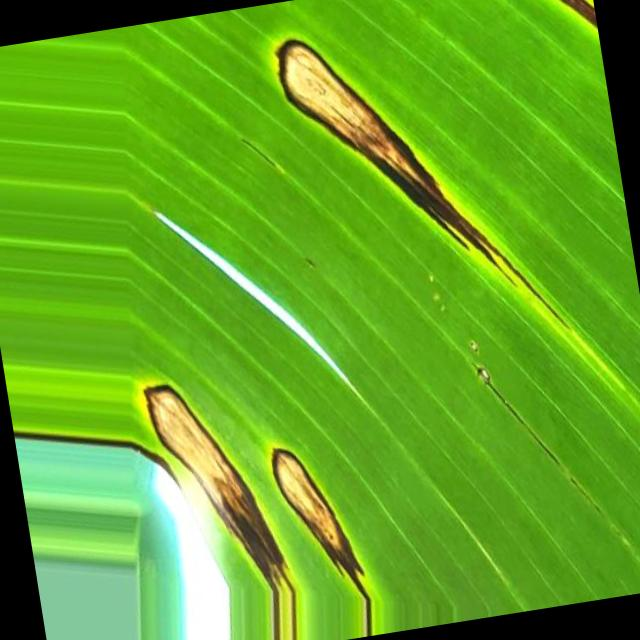Banana_Black_Sigatoka: (60, 2, 599, 392), (42, 243, 538, 640)
